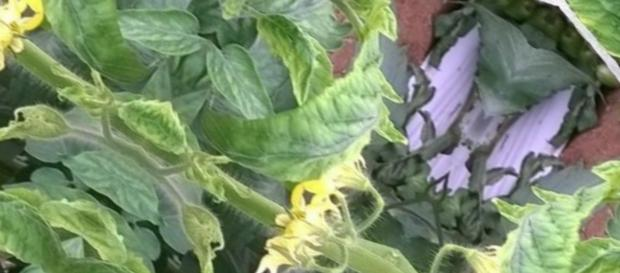Tomato leaf yellow virus: (191, 1, 406, 219), (35, 231, 221, 273)
